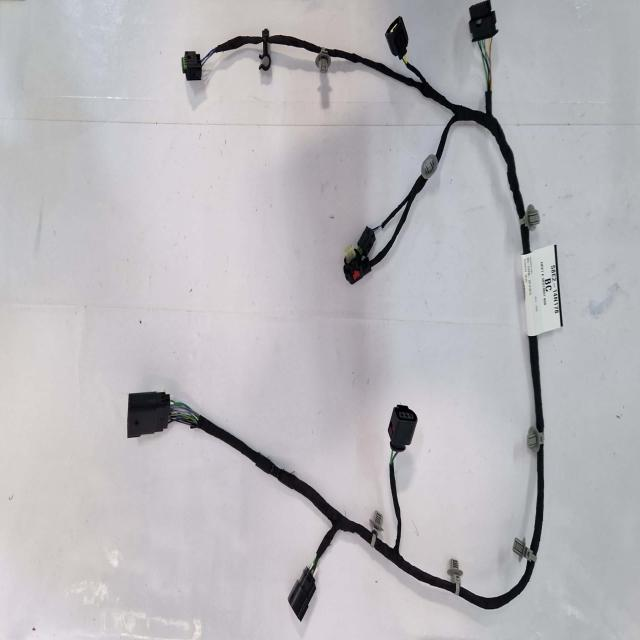Clip: (519, 545, 544, 568), (263, 31, 276, 71), (526, 208, 547, 232), (452, 564, 467, 596), (531, 427, 549, 450), (375, 516, 387, 550), (319, 47, 336, 70), (428, 159, 444, 182)
Connector: (130, 399, 175, 441), (345, 232, 377, 286), (294, 572, 322, 621), (394, 407, 423, 451), (473, 3, 502, 41), (390, 17, 413, 57), (184, 52, 205, 78)
Gape: (170, 406, 202, 431), (486, 91, 501, 141)
Info: (527, 251, 569, 334)
MHEV_N11_Cable: (206, 38, 540, 272), (381, 361, 551, 613), (198, 430, 377, 616)
